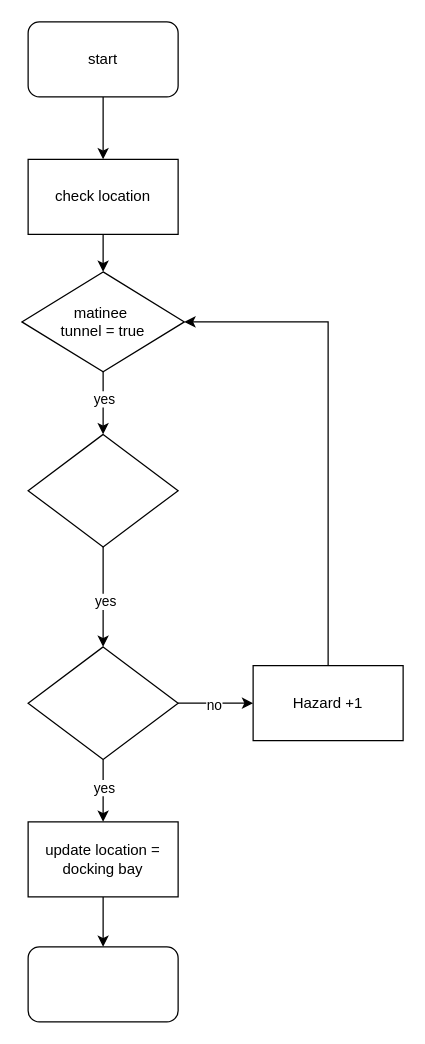
The diagram is 425 pixels wide and 1044 high, and some of its shapes have lost their labels. Each missing label, with the box of its shape:
does droid blocking = false: (27, 646, 178, 759)
does player move east: (27, 433, 178, 547)
end: (27, 946, 178, 1022)
